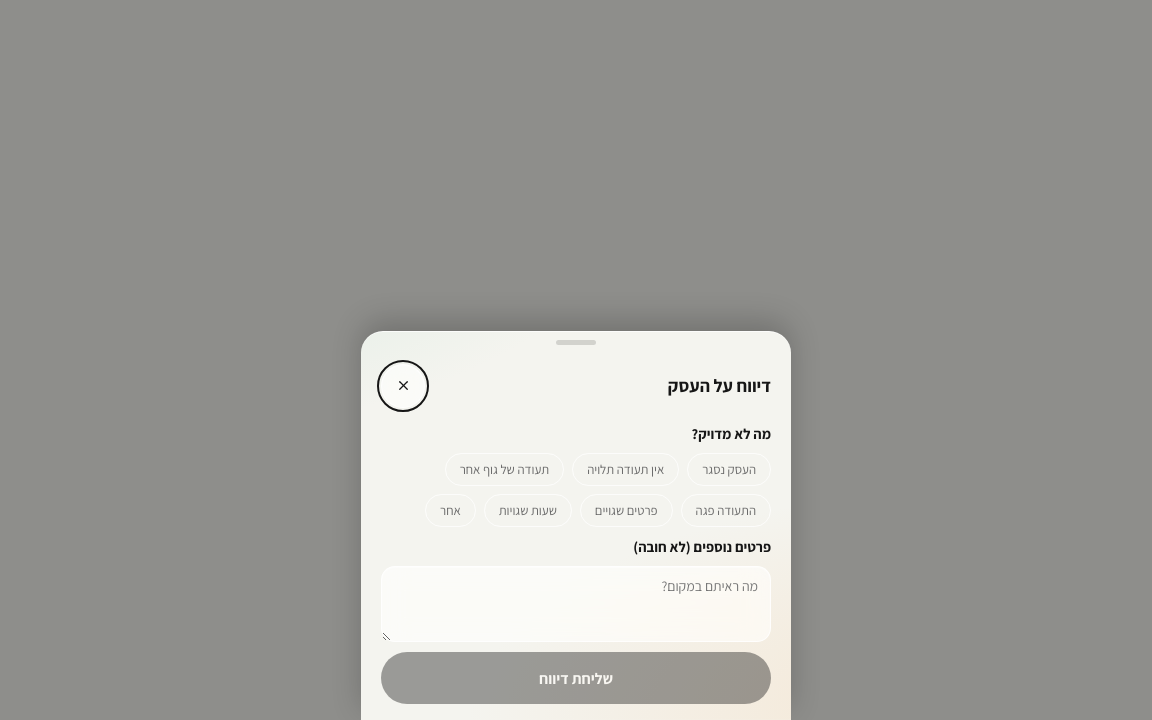
Test case: ReportSheet › sends the chosen type and message, then thanks the reporter
Check: the button "שליחת דיווח" is disabled, box 381,652 -> 771,704
Click the button "התעודה פגה".
click(726, 510)  # box 681,494 -> 771,527
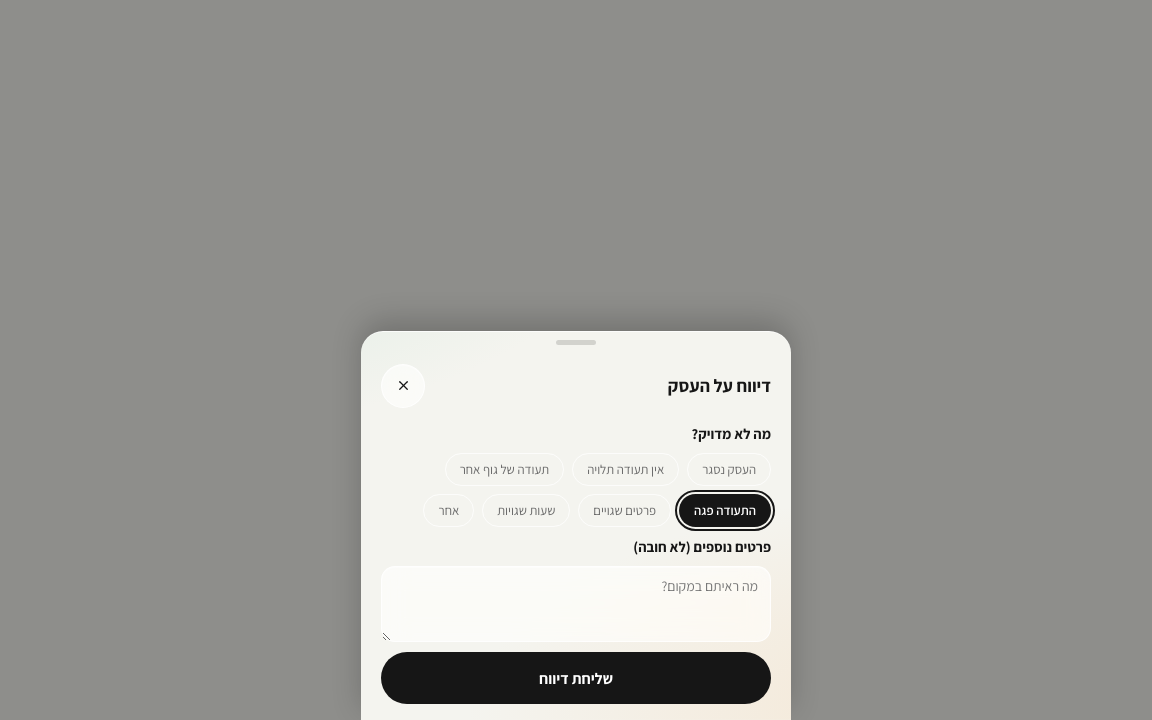
Type "  פג בחודש שעבר " into the text box labelled "פרטים נוספים (לא חובה)".
click(576, 604); type("  פג בחודש שעבר ")  # box 381,566 -> 771,642
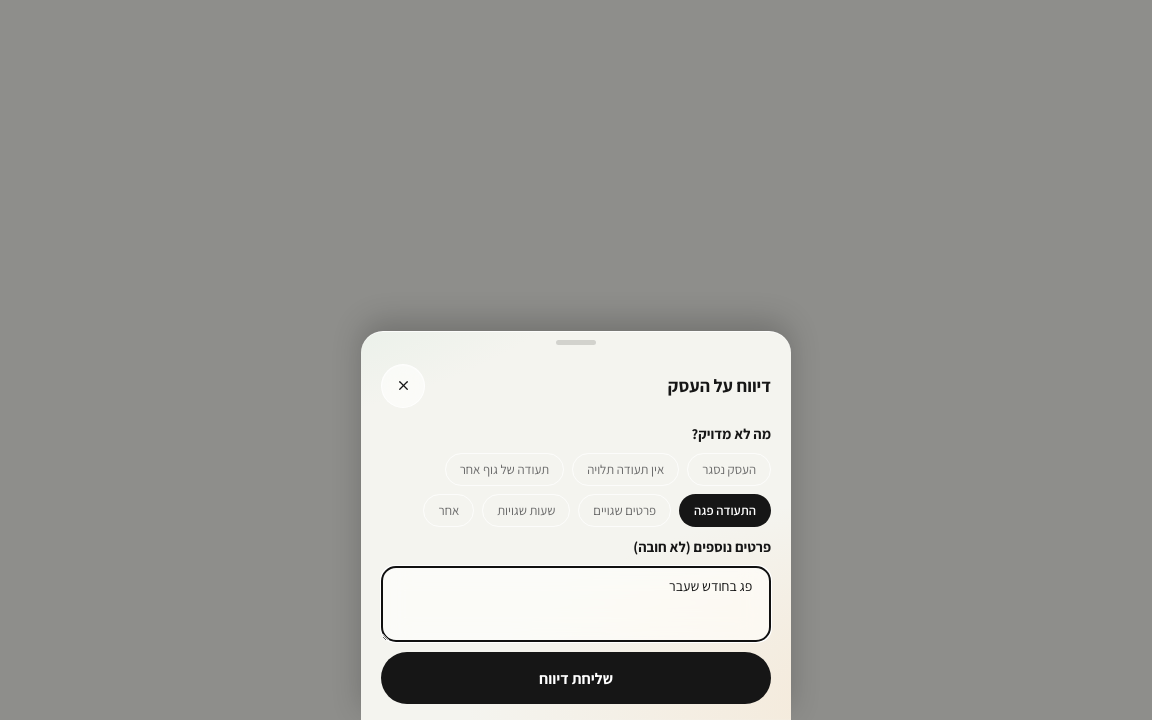
Click the button "שליחת דיווח".
click(576, 678)  # box 381,652 -> 771,704
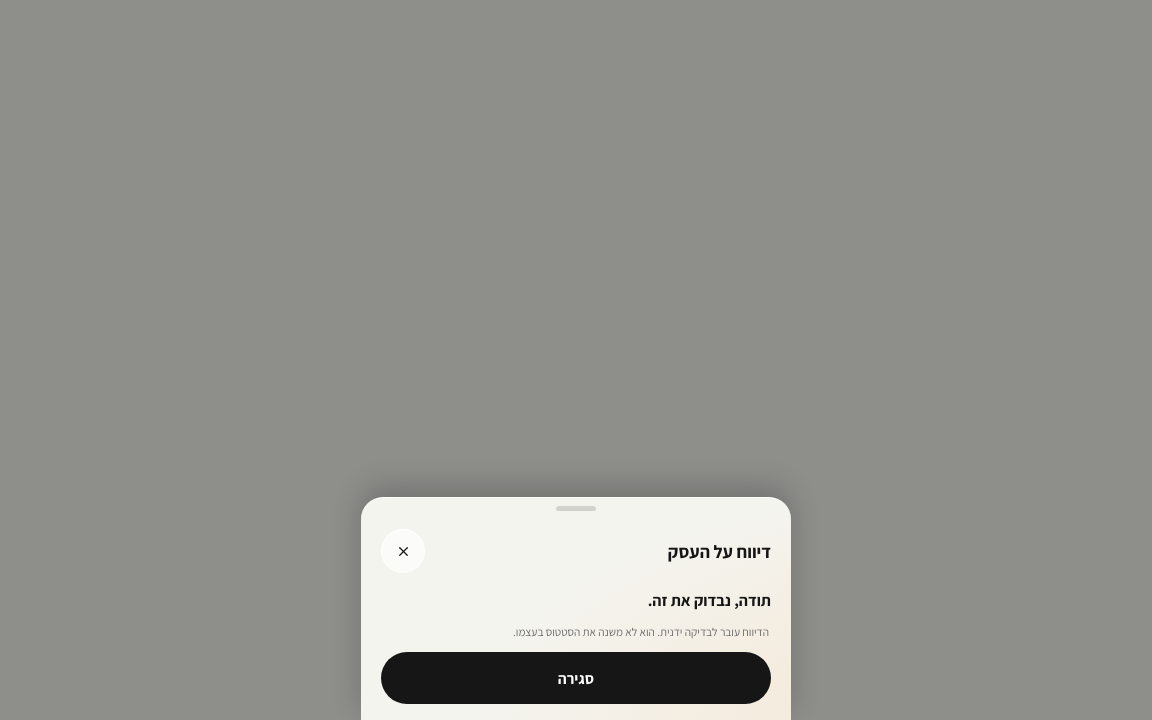
Check: the text "תודה, נבדוק את זה." is shown, box 648,590 -> 771,611
